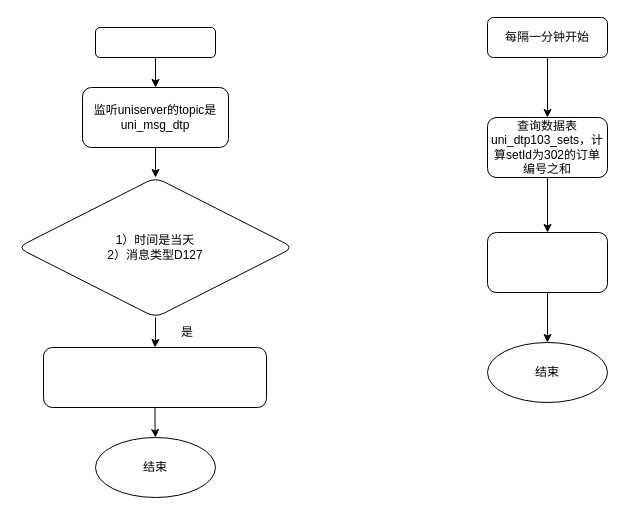
Some shapes in this 625 by 515 pixel diagram are drawn without their labels. The centre of each missing label's shape, as x and y in pixels:
1）计算各个占比 2）每30秒更新数据库dtp_share_mem_msg: (x=154, y=377)
开始: (x=155, y=42)
当结果大于阈值就告警: (x=547, y=262)
